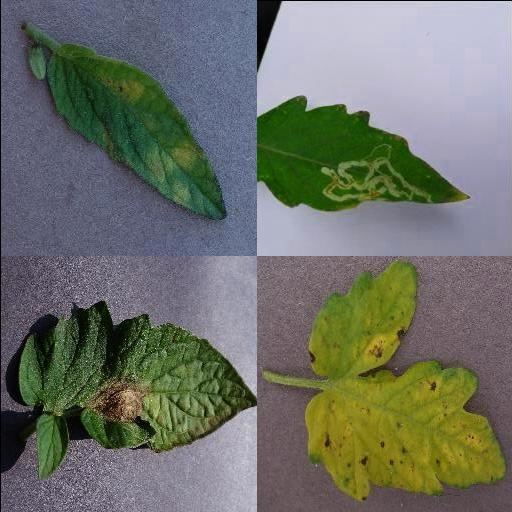Late Blight: (18, 298, 256, 482)
Leaf Miner: (256, 95, 472, 213)
Leaf Mold: (46, 44, 228, 220)
Septoria: (302, 262, 506, 502)
